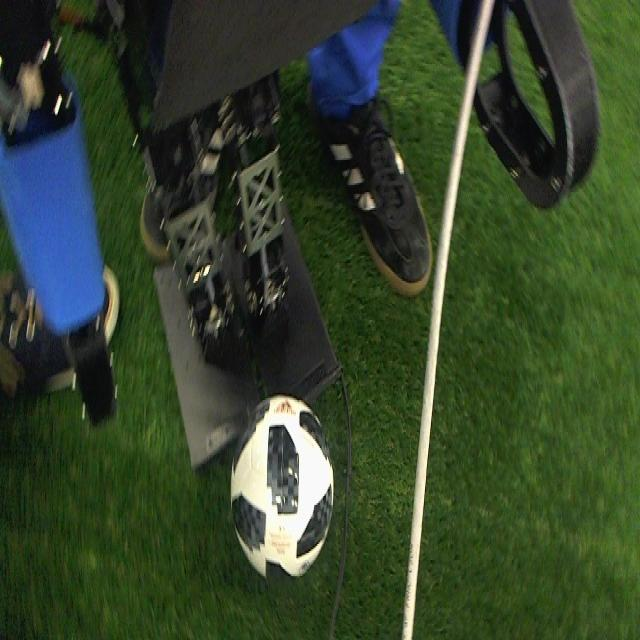ball: (229, 391, 337, 585)
